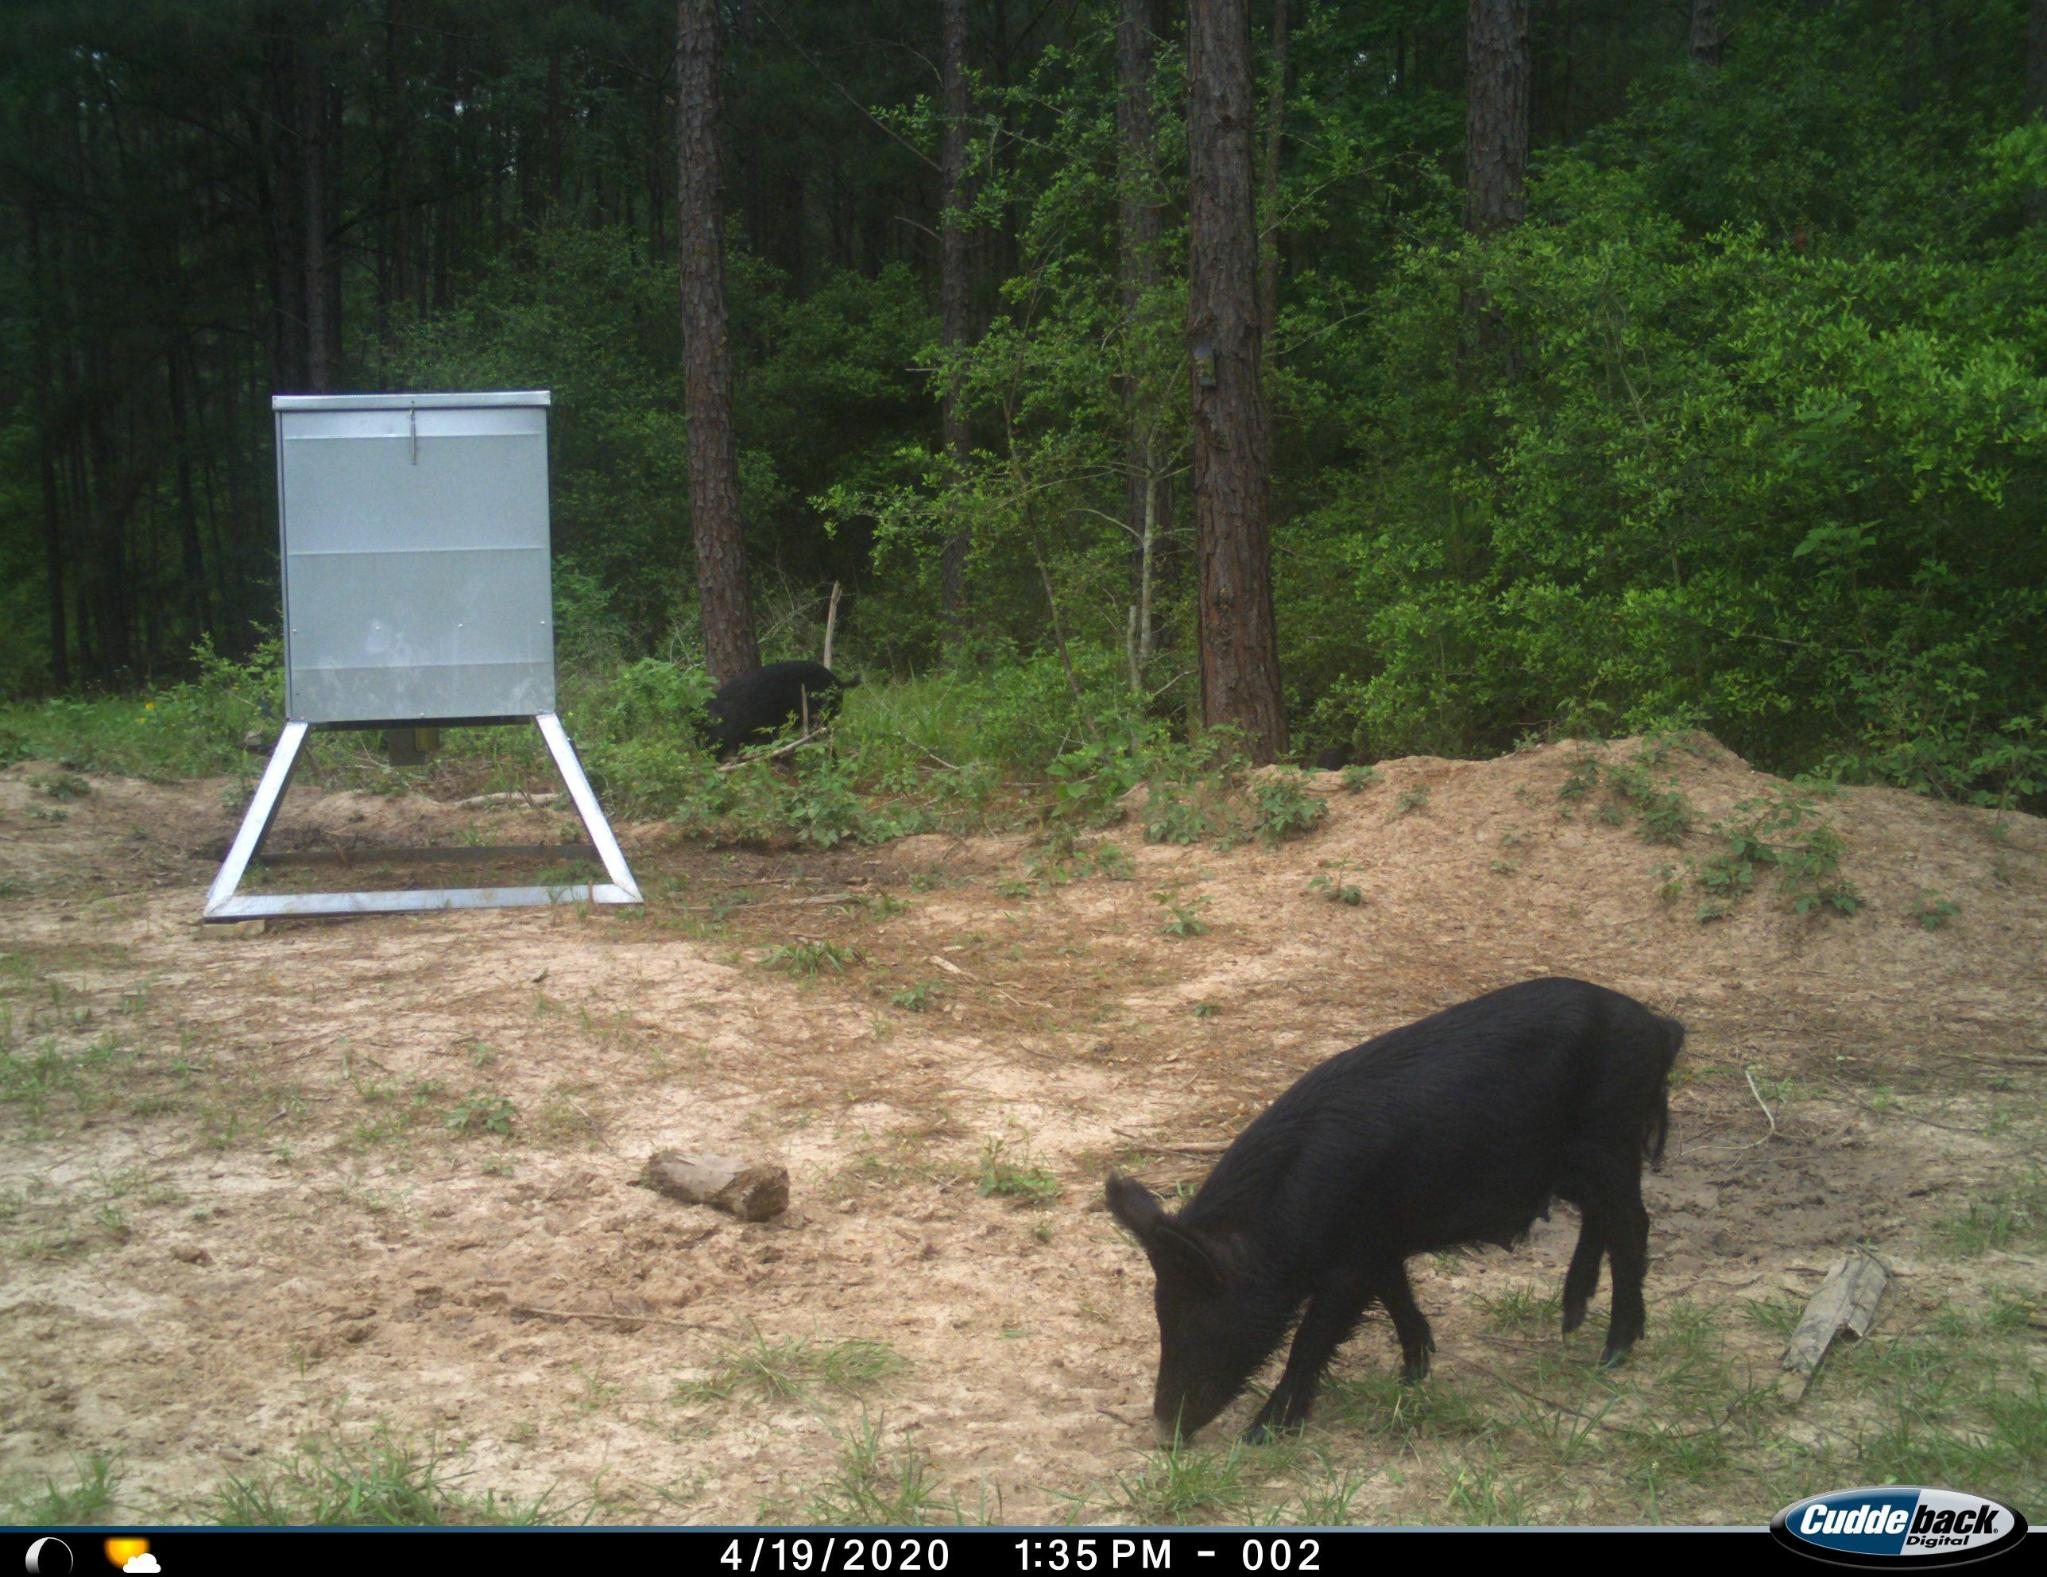Hog: (1085, 971, 1709, 1448), (681, 649, 869, 798)
